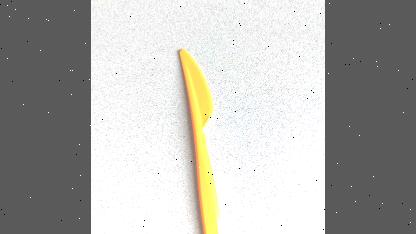Others: (176, 46, 228, 234)
